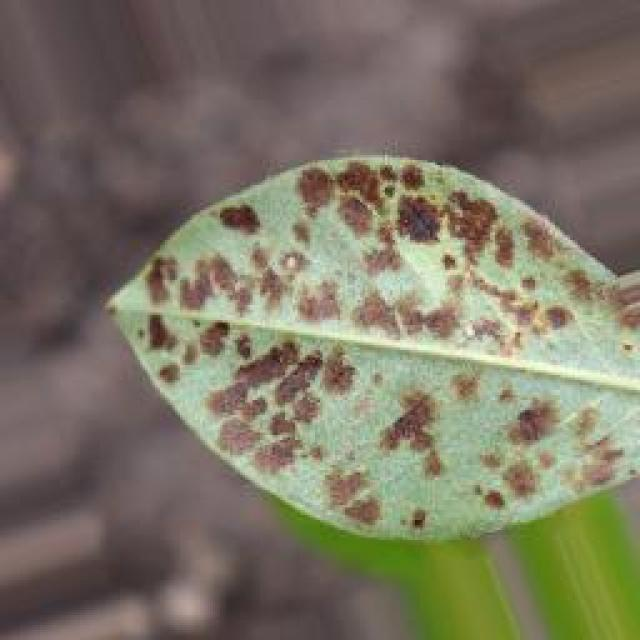Whitefly: (95, 145, 640, 560)
